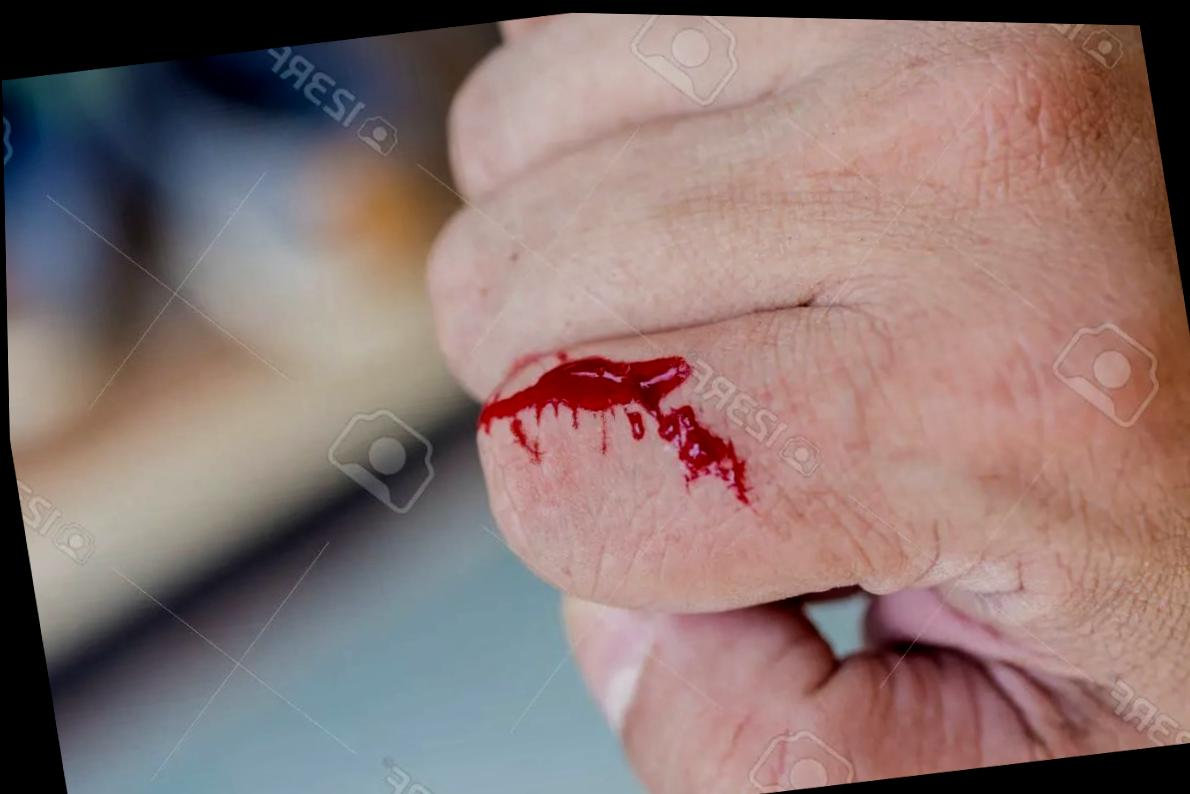Fire: (476, 349, 747, 501)
